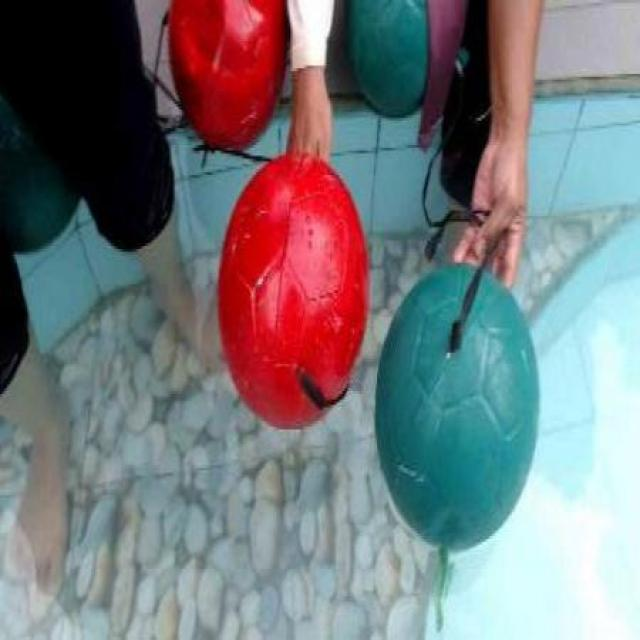buoy: (373, 261, 540, 548), (217, 150, 370, 430), (168, 0, 289, 148), (346, 1, 426, 120)
